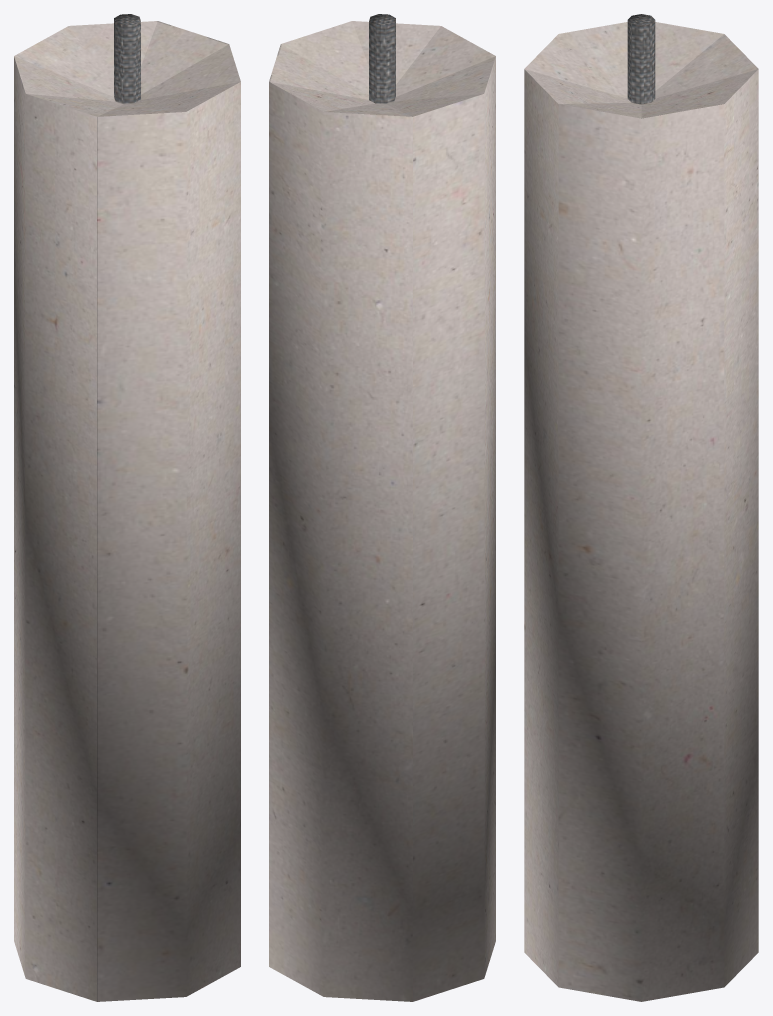
Rendered from Candle4.fbx.
The picture shows the model from 3 angles, left to right: view 1: azimuth 30°, elevation 25°; view 2: azimuth 150°, elevation 25°; view 3: azimuth 270°, elevation 25°; orthographic projection.
Parts seen in each view (by area): view 1: Candle.003_Baked; view 2: Candle.003_Baked; view 3: Candle.003_Baked.
Part boxes in pixels (x1,y1,x2,y2): Candle.003_Baked: [14, 14, 240, 1001]; Candle.003_Baked: [269, 14, 495, 1001]; Candle.003_Baked: [524, 14, 758, 1001].
Bounding box in the file's own units: 2.43 × 10.64 × 2.43.
1 material, 1 textured.
